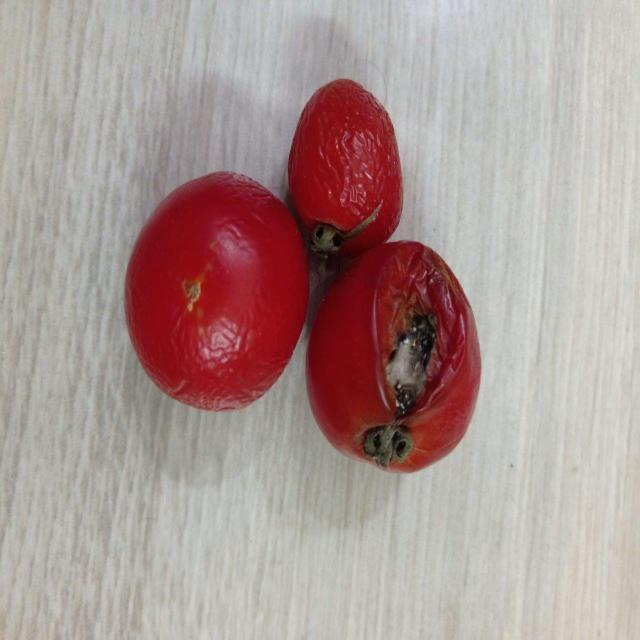Rotten: (306, 238, 481, 473)
overripe: (124, 170, 309, 409), (289, 74, 403, 247)
